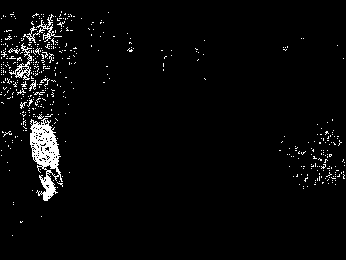person: (28, 116, 67, 201)
